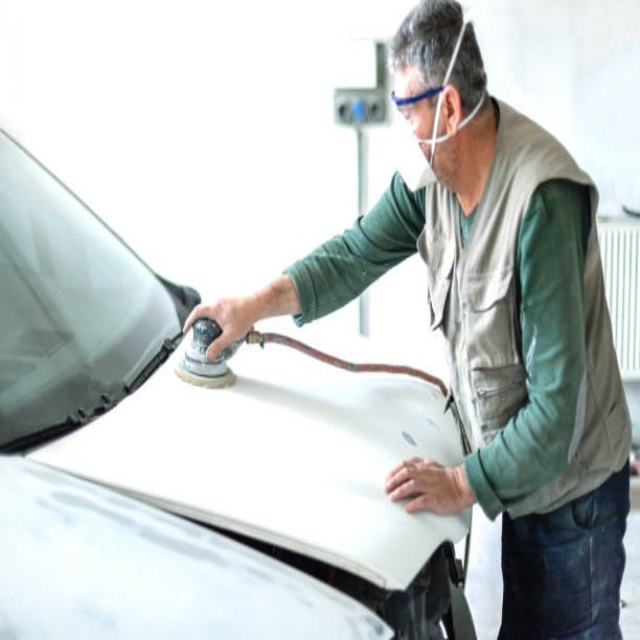Gafas: (391, 84, 455, 113)
Mascara: (386, 110, 449, 193)
Sin_guantes: (383, 455, 464, 517), (182, 292, 252, 359)
